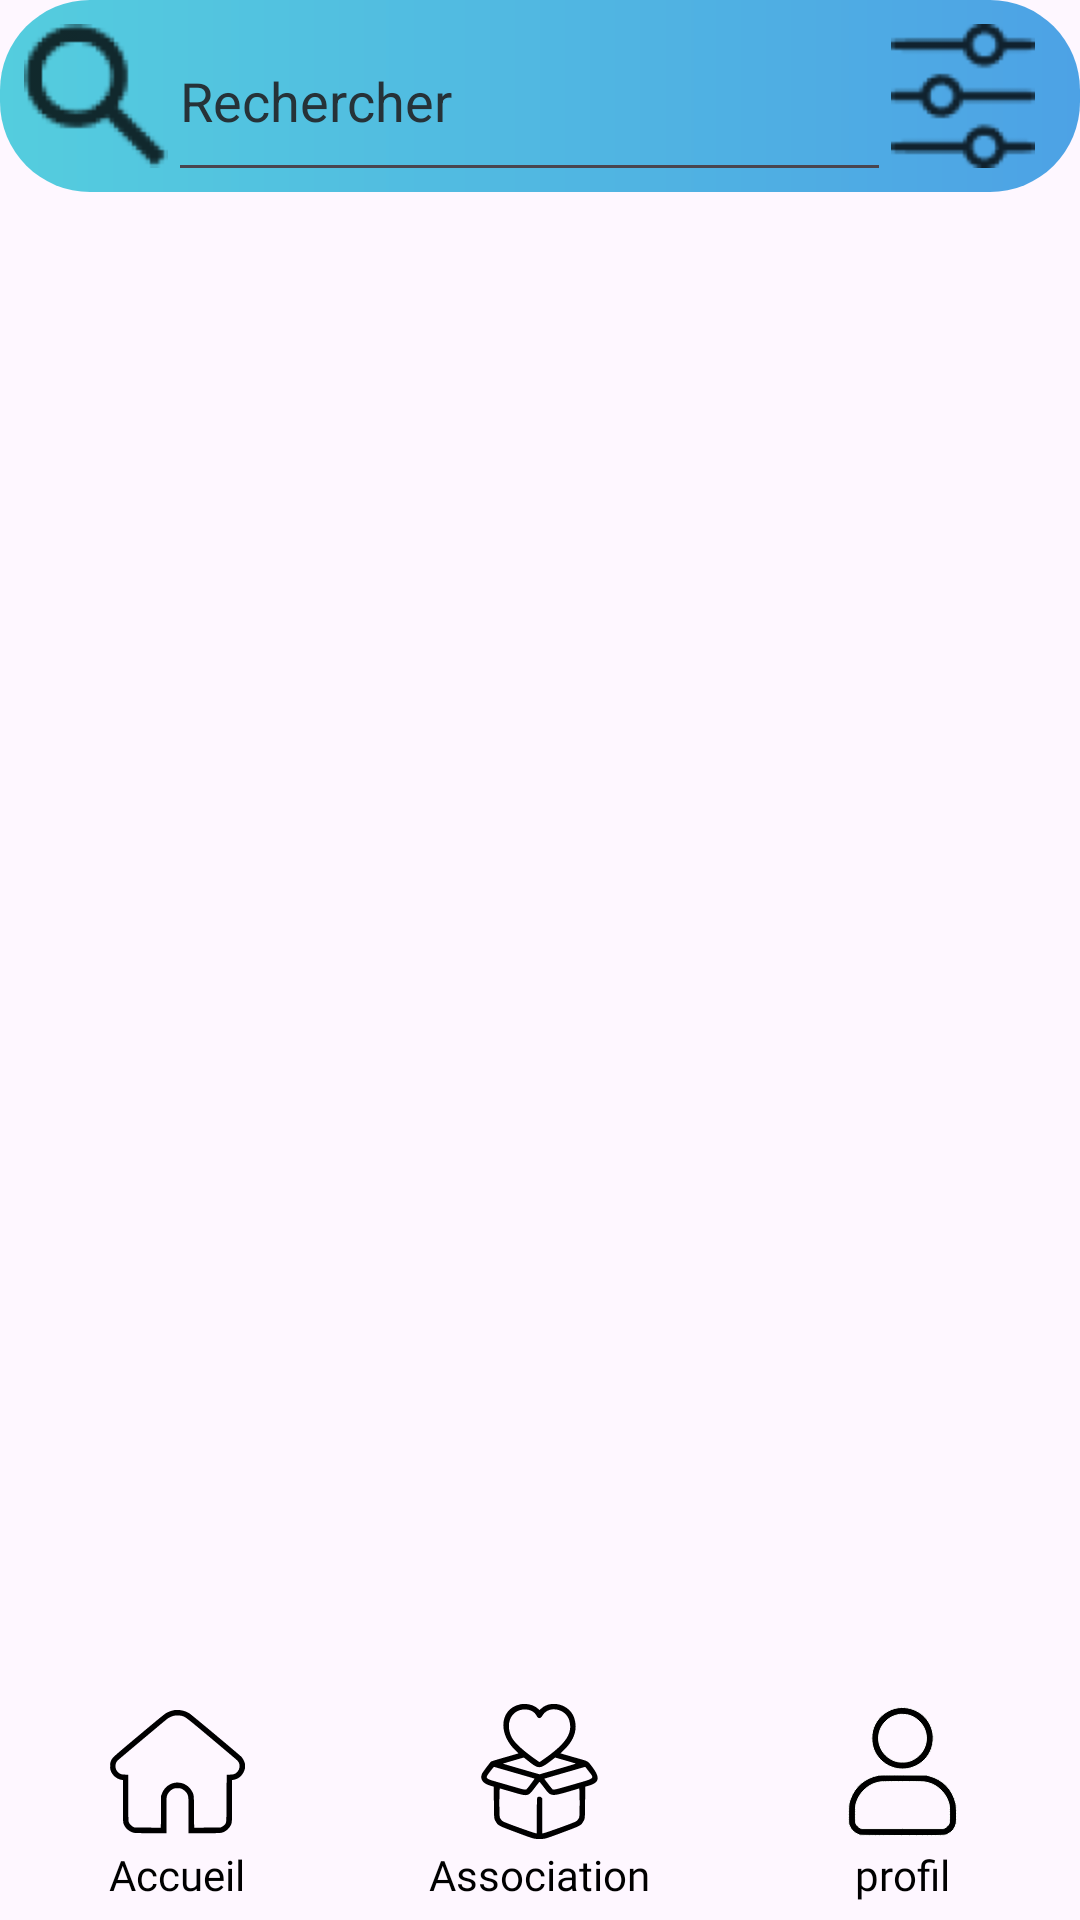

Named icons in this screenshot (1080w x 1920h) and their bounding boxes, (x1, y1, x2, y2):
Filtrer associations: (891, 24, 1035, 168)
Search Icon: (24, 24, 168, 165)
